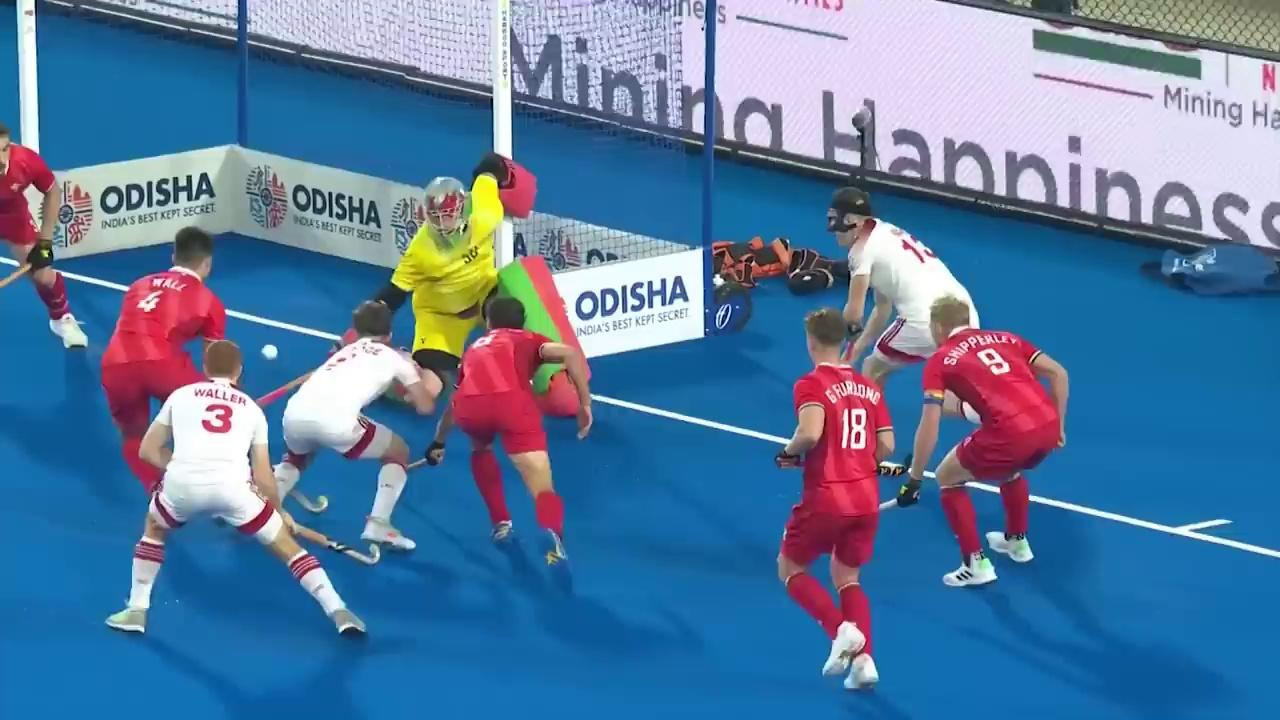ball: (254, 337, 293, 367)
